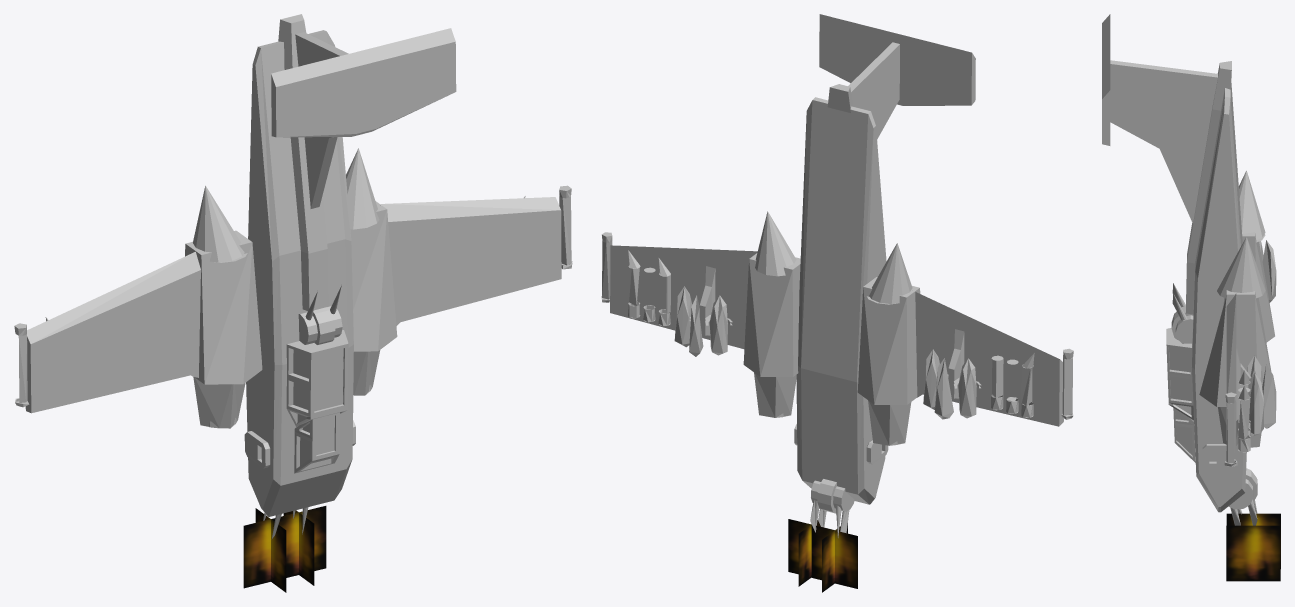
Rendered from MarauderBomberBoned_wtf.obj.
3 renders of one model, left to right at view 1: azimuth 30°, elevation 25°; view 2: azimuth 150°, elevation 25°; view 3: azimuth 270°, elevation 25°, orthographic. The views are drawn at different scales.
Visible parts, largest first — view 1: group1, group2, group10, group3, group7; view 2: group1, group2, group5, group10, group3, group6, group8, group7; view 3: group1, group2, group10, group5, group3, group4, group7, group8, group6.
Part boxes in pixels (x1,y1,x2,y2): group1: [25, 14, 561, 516]; group2: [185, 201, 397, 428]; group10: [243, 506, 326, 592]; group3: [193, 148, 379, 262]; group7: [18, 196, 571, 403]; group1: [610, 14, 1063, 513]; group2: [743, 253, 920, 445]; group5: [601, 232, 1073, 419]; group10: [788, 519, 857, 592]; group3: [755, 211, 912, 304]; group6: [628, 250, 1034, 417]; group8: [629, 268, 1032, 405]; group7: [602, 241, 1072, 416]; group1: [1102, 14, 1257, 512]; group2: [1199, 232, 1274, 448]; group10: [1226, 513, 1280, 581]; group5: [1224, 240, 1276, 466]; group3: [1217, 170, 1265, 298]; group4: [1172, 283, 1257, 525]; group7: [1226, 402, 1235, 463]; group8: [1238, 383, 1250, 439]; group6: [1238, 370, 1250, 452].
Size of the model in its own units: 644 by 650 by 202.
